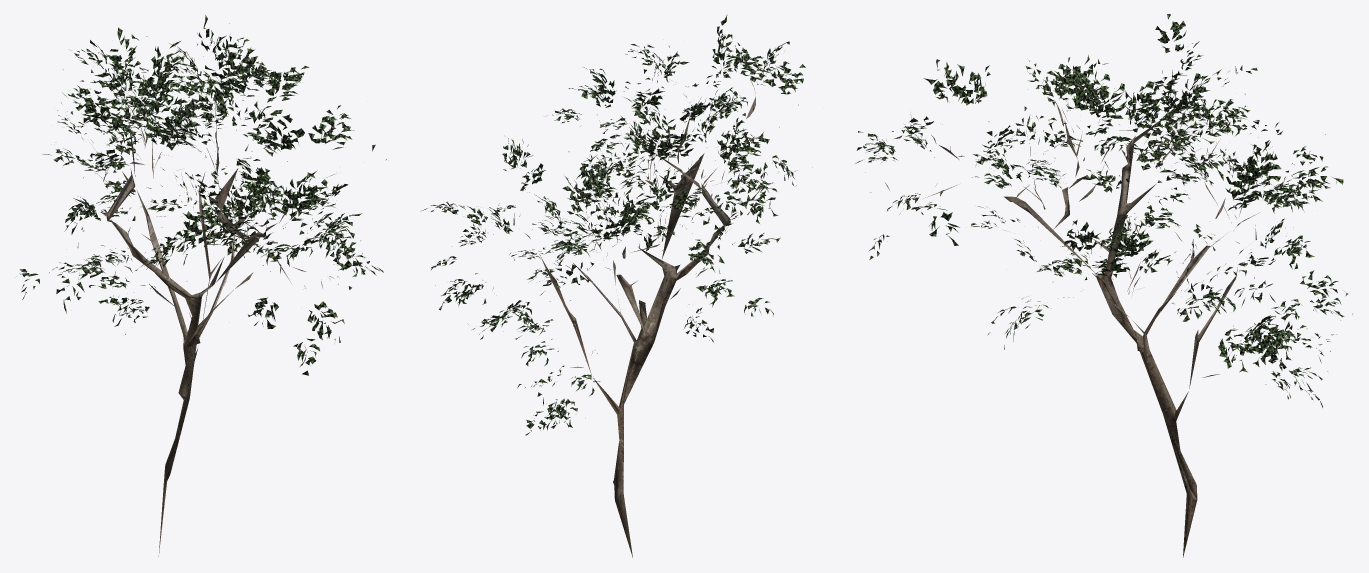
File: tree.glb
3 renders of one model, left to right at view 1: azimuth 30°, elevation 25°; view 2: azimuth 150°, elevation 25°; view 3: azimuth 270°, elevation 25°, orthographic. The views are drawn at different scales.
Visible parts, largest first — view 1: tree_small_02_LOD0; view 2: tree_small_02_LOD0; view 3: tree_small_02_LOD0.
Boxes of the visible parts, <box> form: tree_small_02_LOD0: <box>19,15,386,556</box>; tree_small_02_LOD0: <box>420,14,812,557</box>; tree_small_02_LOD0: <box>855,14,1352,557</box>.
Size of the model in its own units: 2.87 by 4.53 by 4.06.
3 materials, 3 textured.
